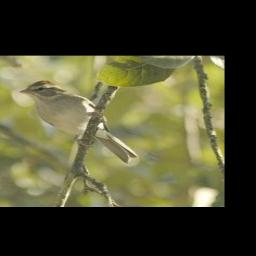Sparrow: (17, 79, 138, 164)
